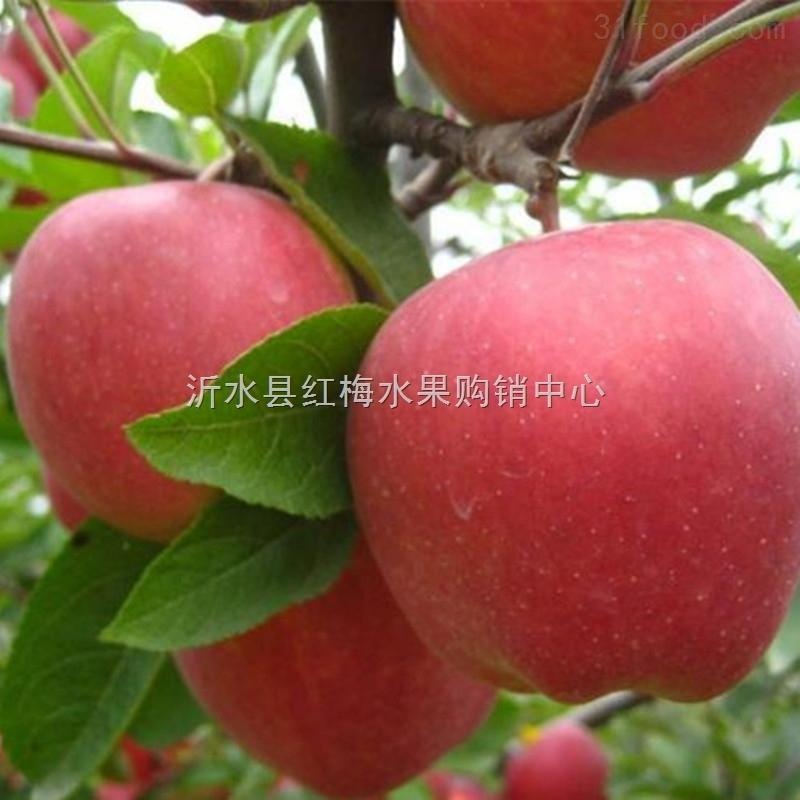apple: (340, 239, 797, 730), (10, 187, 364, 549), (183, 552, 491, 797), (387, 0, 743, 148), (497, 720, 610, 798)
